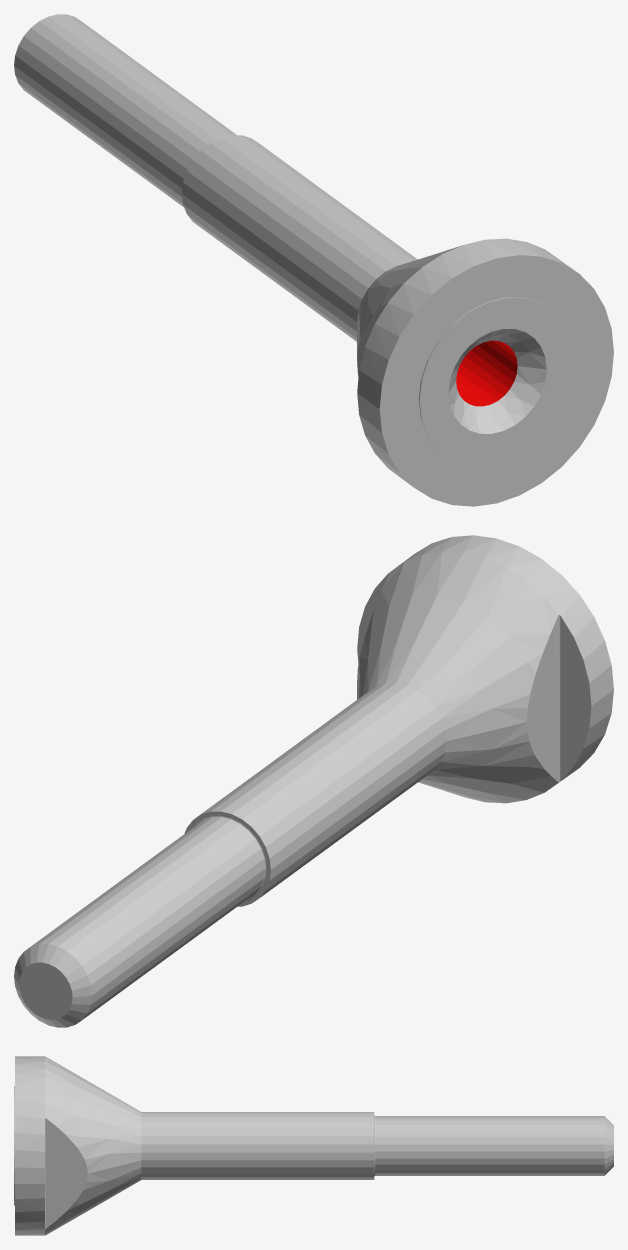
Rendered from AE041738_STEP_4_5_22_23.obj.
3 renders of one model, top to bottom at view 1: azimuth 30°, elevation 25°; view 2: azimuth 150°, elevation 25°; view 3: azimuth 270°, elevation 25°, orthographic. The views are drawn at different scales.
Visible parts, largest first — view 1: Object1; view 2: Object1; view 3: Object1.
Part boxes in pixels (box(x1,y1,x2,y2)): Object1: box(14, 14, 613, 506); Object1: box(14, 535, 613, 1027); Object1: box(14, 1056, 613, 1235).
Size of the model in its own units: 19.05 by 19.05 by 63.6.
